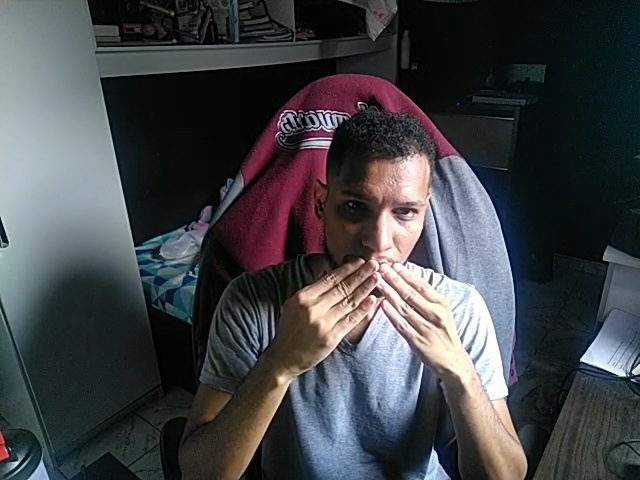obrigado: (269, 252, 465, 376)
